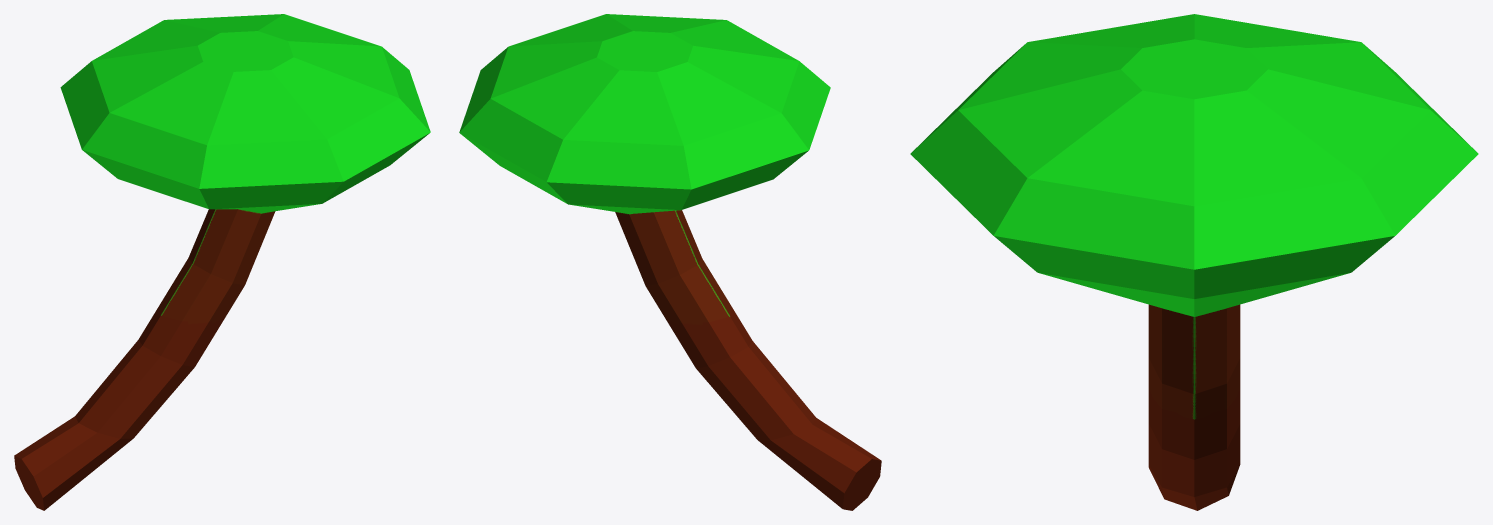
File: Plant.fbx
3 views of the same model, side by side, from view 1: azimuth 30°, elevation 25°; view 2: azimuth 150°, elevation 25°; view 3: azimuth 270°, elevation 25° (orthographic). The views are drawn at different scales.
Parts seen in each view (by area): view 1: pCylinder2; view 2: pCylinder2; view 3: pCylinder2.
Boxes of the visible parts, <box> form: pCylinder2: <box>14,14,430,510</box>; pCylinder2: <box>459,14,881,510</box>; pCylinder2: <box>910,14,1478,510</box>.
Bounding box in the file's own units: 1.89 × 1.88 × 1.65.
